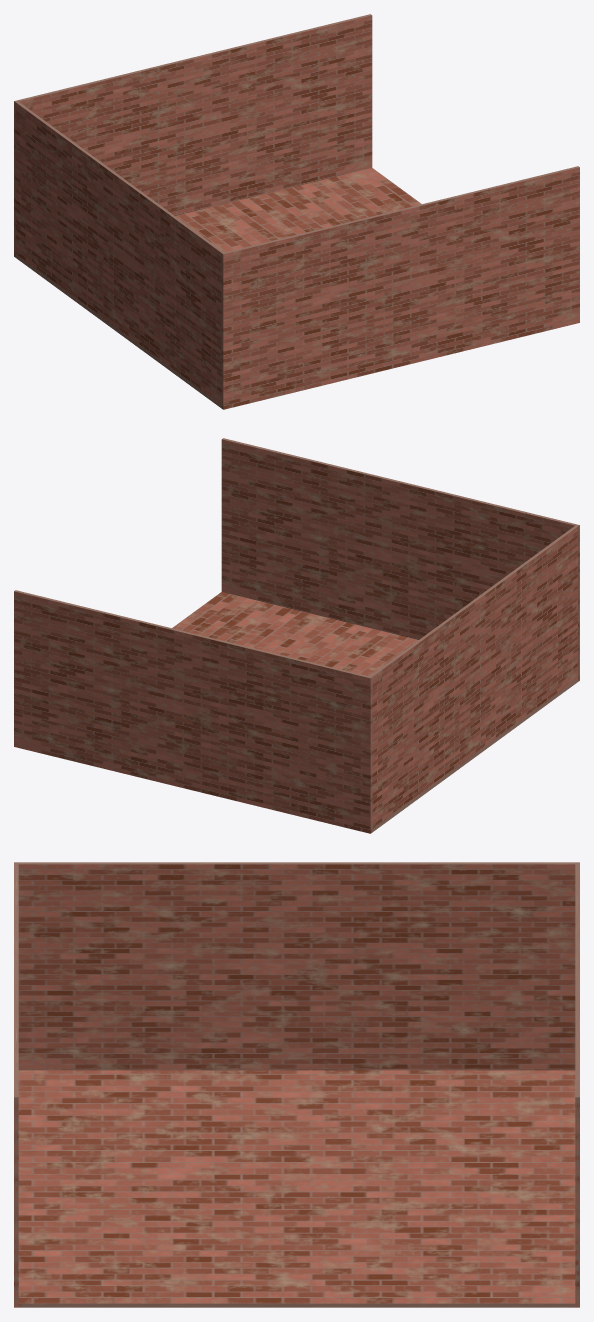
Rendered from room.fbx.
3 views of the same model, one above another, from view 1: azimuth 30°, elevation 25°; view 2: azimuth 150°, elevation 25°; view 3: azimuth 270°, elevation 25° (orthographic). The views are drawn at different scales.
Parts seen in each view (by area): view 1: Cube.001, Cube.002, Cube.003, Cube; view 2: Cube.002, Cube.001, Cube.003, Cube; view 3: Cube, Cube.003, Cube.001, Cube.002.
Boxes of the visible parts, x1,y1,x2,y2 form: Cube.001: (221,166,579,409); Cube.002: (14,14,372,257); Cube.003: (15,101,224,404); Cube: (15,168,421,408); Cube.002: (14,590,372,833); Cube.001: (221,438,579,681); Cube.003: (369,525,577,828); Cube: (172,592,578,832); Cube: (18,1070,575,1307); Cube.003: (18,862,575,1070); Cube.001: (14,862,18,1307); Cube.002: (575,862,579,1307).
Size of the model in its own units: 2400 by 1000 by 2441.
4 materials, 4 textured.
